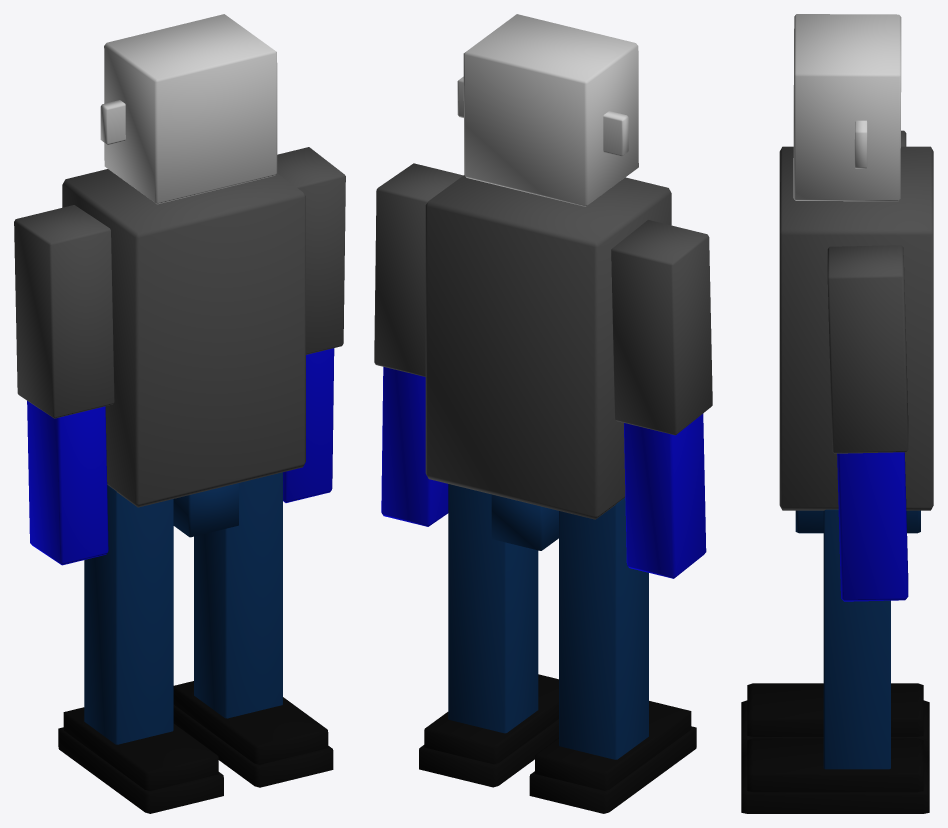
Rendered from Zombie.FBX.
3 renders of one model, left to right at view 1: azimuth 30°, elevation 25°; view 2: azimuth 150°, elevation 25°; view 3: azimuth 270°, elevation 25°, orthographic. The views are drawn at different scales.
Visible parts, largest first — view 1: Body, RArm, Head, RLeg, LLeg, LArm, RFoot, LFoot, Pelvis; view 2: Body, RArm, Head, RLeg, LLeg, LArm, RFoot, LFoot, Pelvis; view 3: Body, LArm, Head, LLeg, LFoot, RFoot, Pelvis.
Boxes of the visible parts, x1,y1,x2,y2 form: Body: (62, 169, 305, 507); RArm: (14, 205, 114, 565); Head: (100, 14, 277, 204); RLeg: (84, 485, 173, 744); LLeg: (194, 472, 282, 718); LArm: (277, 147, 345, 502); RFoot: (58, 707, 223, 813); LFoot: (173, 681, 333, 787); Pelvis: (173, 483, 238, 537); Body: (425, 175, 671, 519); RArm: (611, 220, 712, 578); Head: (457, 14, 638, 206); RLeg: (559, 497, 648, 759); LLeg: (448, 484, 538, 733); LArm: (374, 163, 463, 526); RFoot: (529, 701, 696, 813); LFoot: (419, 674, 558, 787); Pelvis: (491, 494, 558, 550); Body: (779, 146, 933, 510); LArm: (827, 245, 908, 601); Head: (793, 14, 901, 201); LLeg: (823, 509, 890, 769); LFoot: (741, 738, 929, 813); RFoot: (741, 683, 929, 757); Pelvis: (795, 510, 920, 533).
Size of the model in its own units: 134 by 306 by 73.6.
